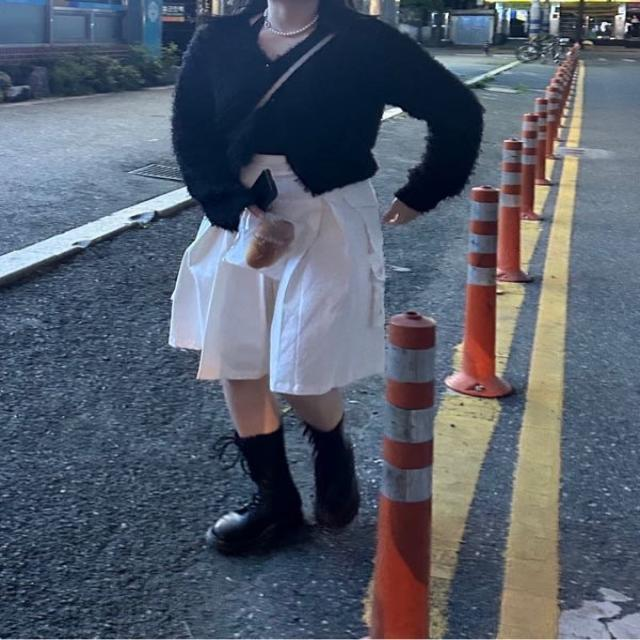cardigan: (170, 10, 483, 231)
skirt: (168, 153, 389, 391)
